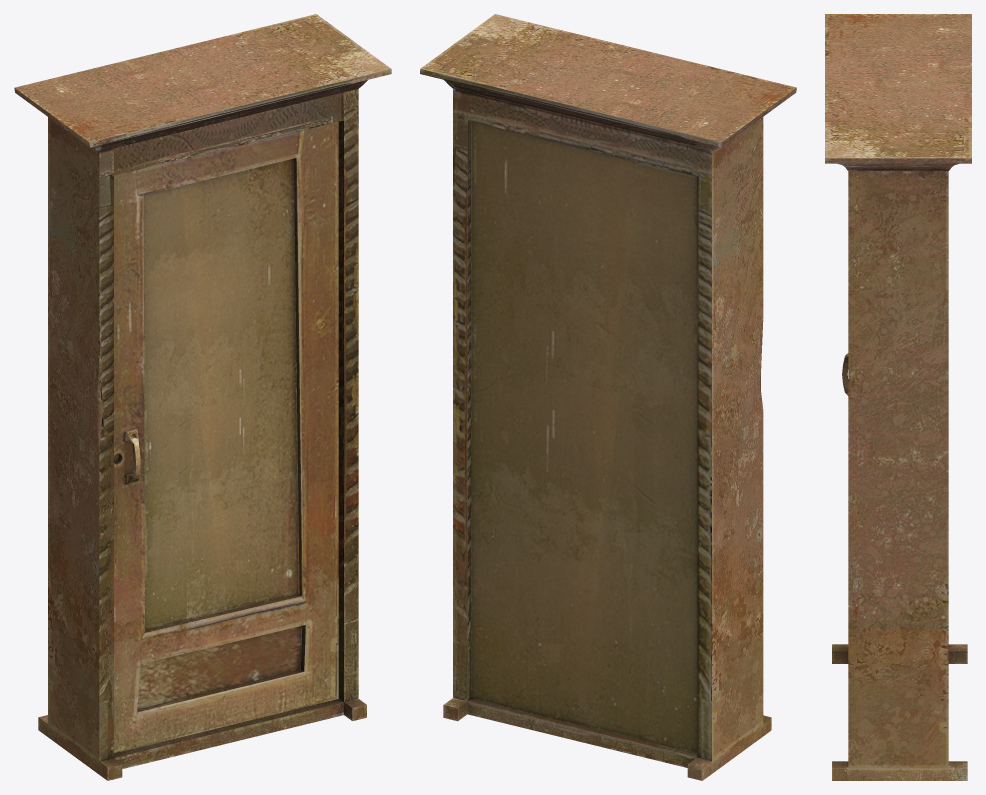
File: Lemari.fbx
The picture shows the model from 3 angles, left to right: view 1: azimuth 30°, elevation 25°; view 2: azimuth 150°, elevation 25°; view 3: azimuth 270°, elevation 25°; orthographic projection. The views are drawn at different scales.
Visible parts, largest first — view 1: Lemari; view 2: Lemari; view 3: Lemari.
Boxes of the visible parts, x1,y1,x2,y2 form: Lemari: [14, 14, 391, 780]; Lemari: [420, 14, 796, 780]; Lemari: [825, 14, 971, 780].
Size of the model in its own units: 1.33 by 2.71 by 0.5696.
Materials: 1 (1 with a texture image).
